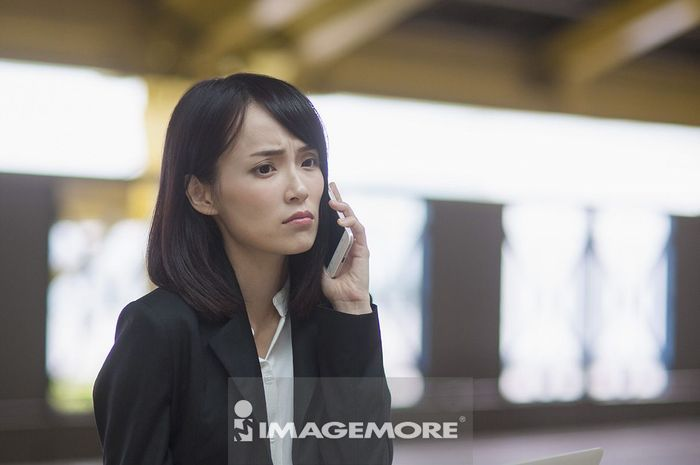phone: (319, 186, 354, 281)
talk: (238, 137, 371, 297)
